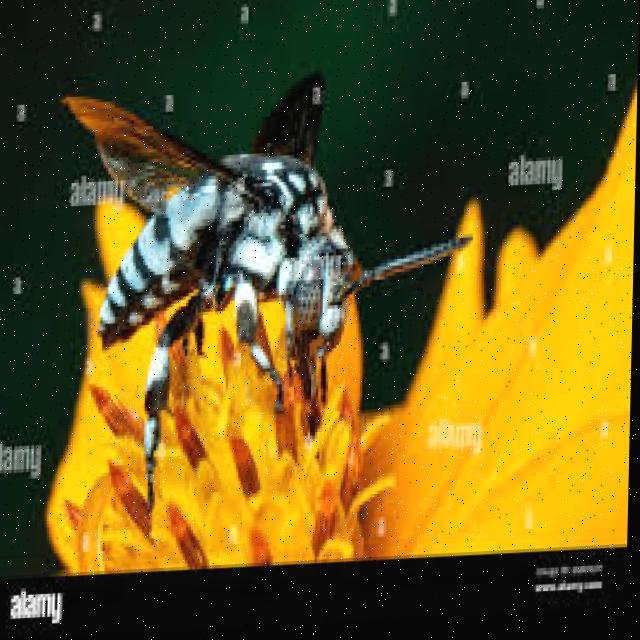Thyreus: (60, 51, 463, 485)
